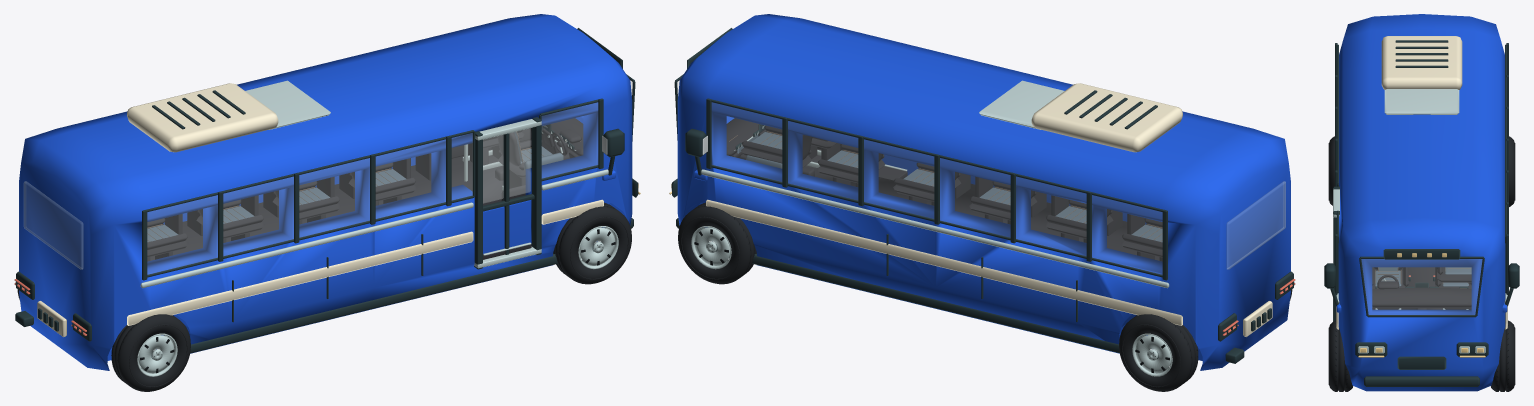
File: coach.glb
3 views of the same model, side by side, from view 1: azimuth 30°, elevation 25°; view 2: azimuth 150°, elevation 25°; view 3: azimuth 270°, elevation 25° (orthographic). The views are drawn at different scales.
Parts seen in each view (by area): view 1: Paint coach, Automotive glass.006, Tyre rubber.006, Cabin upholstery.006, Warm white trim.006, Rolling wheels.006, Wheel hubs.006, Tailored cabin leather.006; view 2: Paint coach, Automotive glass.006, Tyre rubber.006, Warm white trim.006, Cabin upholstery.006, Rolling wheels.006, Wheel hubs.006, Tailored cabin leather.006; view 3: Paint coach, Tyre rubber.006, Automotive glass.006, Warm white trim.006, Cabin upholstery.006, Rolling wheels.006, Wheel hubs.006, Tailored cabin leather.006, Headlamp.006.
Boxes of the visible parts, x1=… form: Paint coach: x1=19, y1=14, x2=632, y2=370; Automotive glass.006: x1=24, y1=81, x2=632, y2=274; Tyre rubber.006: x1=15, y1=28, x2=638, y2=358; Cabin upholstery.006: x1=147, y1=118, x2=583, y2=261; Warm white trim.006: x1=37, y1=83, x2=603, y2=336; Rolling wheels.006: x1=17, y1=202, x2=631, y2=391; Wheel hubs.006: x1=140, y1=80, x2=608, y2=288; Tailored cabin leather.006: x1=147, y1=127, x2=563, y2=242; Paint coach: x1=677, y1=14, x2=1290, y2=370; Automotive glass.006: x1=677, y1=81, x2=1285, y2=274; Tyre rubber.006: x1=672, y1=28, x2=1294, y2=363; Warm white trim.006: x1=706, y1=83, x2=1272, y2=336; Cabin upholstery.006: x1=726, y1=118, x2=1162, y2=261; Rolling wheels.006: x1=678, y1=202, x2=1292, y2=391; Wheel hubs.006: x1=671, y1=80, x2=1169, y2=288; Tailored cabin leather.006: x1=737, y1=132, x2=1162, y2=242; Paint coach: x1=1336, y1=14, x2=1507, y2=391; Tyre rubber.006: x1=1324, y1=40, x2=1519, y2=386; Automotive glass.006: x1=1361, y1=259, x2=1482, y2=314; Warm white trim.006: x1=1336, y1=36, x2=1507, y2=329; Cabin upholstery.006: x1=1372, y1=267, x2=1471, y2=309; Rolling wheels.006: x1=1328, y1=136, x2=1515, y2=391; Wheel hubs.006: x1=1333, y1=89, x2=1507, y2=353; Tailored cabin leather.006: x1=1375, y1=267, x2=1471, y2=286; Headlamp.006: x1=1358, y1=253, x2=1485, y2=357.
Size of the model in its own units: 2.96 by 1.12 by 1.04.
